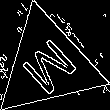M_SE: (14, 31, 81, 99)
